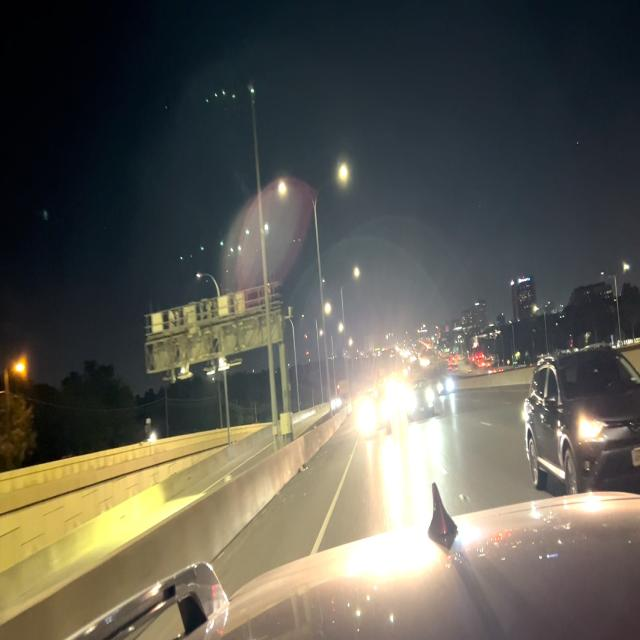back-of-sign: (144, 291, 283, 373)
